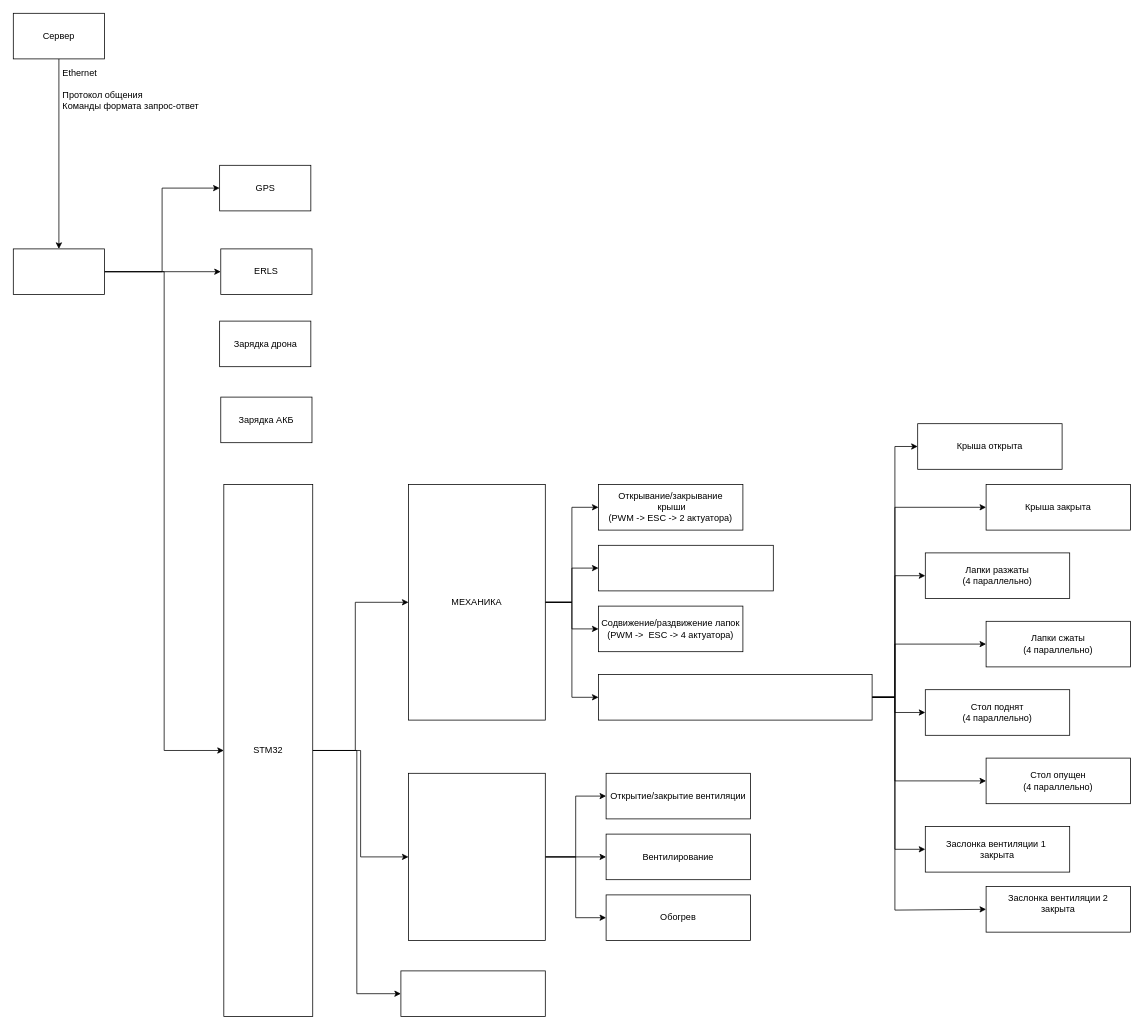
The diagram is 1144 pixels wide and 1030 high, and some of its shapes have lost their labels. Each missing label, with the centre of its shape:
OrangePi: point 58,271
КЛИМАТ: point 476,856
Концевики: (пиздец): point 735,697
Подъём/опускание стола (6 GPIO -> 2 TB6600 -> 2 шаговика): point 685,568
СВЕТ: point 472,993
